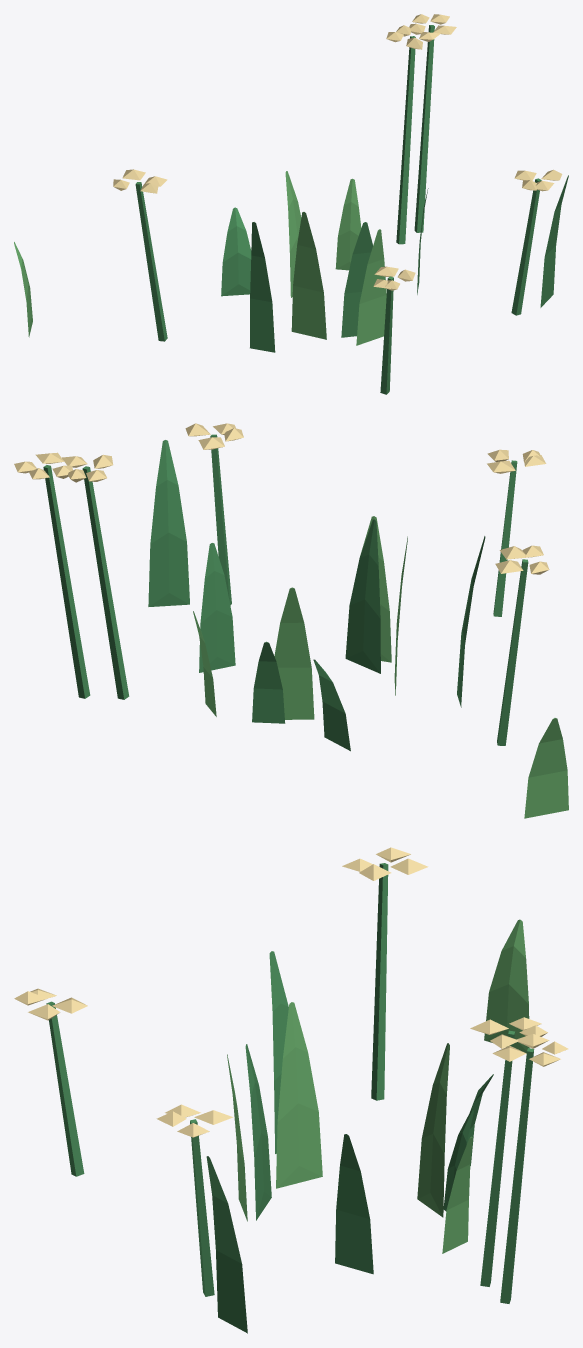
File: flowers_meadow_c.glb
3 views of the same model, one above another, from view 1: azimuth 30°, elevation 25°; view 2: azimuth 150°, elevation 25°; view 3: azimuth 270°, elevation 25° (orthographic). The views are drawn at different scales.
Parts seen in each view (by area): view 1: FlowersMeadowC; view 2: FlowersMeadowC; view 3: FlowersMeadowC.
Part boxes in pixels (x1,y1,x2,y2): FlowersMeadowC: [14, 14, 568, 394]; FlowersMeadowC: [14, 423, 568, 818]; FlowersMeadowC: [14, 847, 568, 1333].
Bounding box in the file's own units: 0.9892 × 0.4341 × 0.7786.
